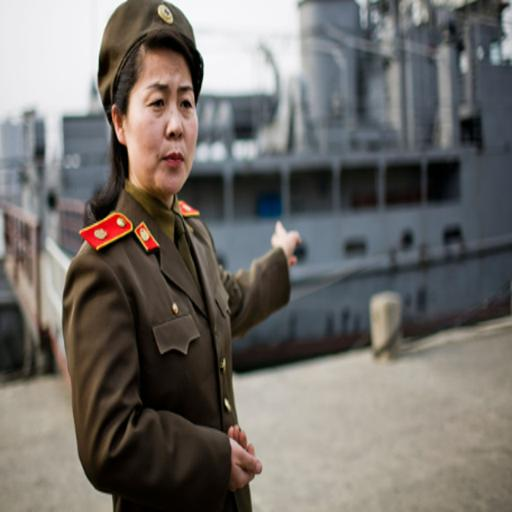north army: (42, 19, 358, 512)
